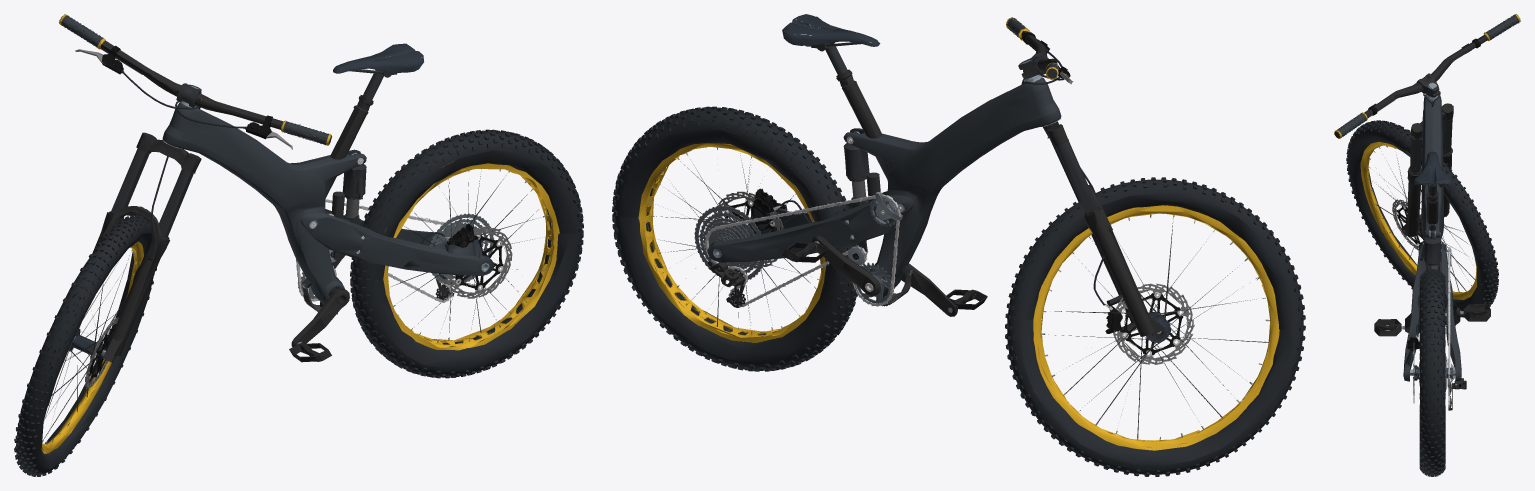
File: CarbonFrameBike_LOD1.fbx
3 renders of one model, left to right at view 1: azimuth 30°, elevation 25°; view 2: azimuth 150°, elevation 25°; view 3: azimuth 270°, elevation 25°, orthographic. The views are drawn at different scales.
Visible parts, largest first — view 1: MM_CarbonBike_overview_rear_wheel, MM_CarbonBike_overview_front_wheel, MM_CarbonBike_overview_frame, MM_CarbonBike_overview_rear_suspension, MM_CarbonBike_overview_fork, MM_CarbonBike_overview_cockpit, MM_CarbonBike_overview_seat, MM_CarbonBike_overview_transmission, MM_CarbonBike_overview_rear_brake, MM_CarbonBike_overview_shock, MM_CarbonBike_overview_chain_guide, MM_CarbonBike_overview_cables (+2 smaller); view 2: MM_CarbonBike_overview_front_wheel, MM_CarbonBike_overview_rear_wheel, MM_CarbonBike_overview_frame, MM_CarbonBike_overview_transmission, MM_CarbonBike_overview_rear_suspension, MM_CarbonBike_overview_fork, MM_CarbonBike_overview_seat, MM_CarbonBike_overview_chain_guide, MM_CarbonBike_overview_front_brake, MM_CarbonBike_overview_cockpit, MM_CarbonBike_overview_shock, MM_CarbonBike_overview_rear_brake (+1 smaller); view 3: MM_CarbonBike_overview_front_wheel, MM_CarbonBike_overview_rear_wheel, MM_CarbonBike_overview_fork, MM_CarbonBike_overview_cockpit, MM_CarbonBike_overview_rear_suspension, MM_CarbonBike_overview_frame, MM_CarbonBike_overview_seat, MM_CarbonBike_overview_pedals, MM_CarbonBike_overview_transmission, MM_CarbonBike_overview_shock, MM_CarbonBike_overview_front_brake, MM_CarbonBike_overview_chain_guide (+1 smaller).
Boxes of the visible parts, x1=… form: MM_CarbonBike_overview_rear_wheel: x1=350, y1=129, x2=583, y2=378; MM_CarbonBike_overview_front_wheel: x1=14, y1=214, x2=156, y2=476; MM_CarbonBike_overview_frame: x1=162, y1=102, x2=366, y2=314; MM_CarbonBike_overview_rear_suspension: x1=300, y1=160, x2=494, y2=275; MM_CarbonBike_overview_fork: x1=78, y1=85, x2=201, y2=362; MM_CarbonBike_overview_cockpit: x1=59, y1=14, x2=331, y2=149; MM_CarbonBike_overview_seat: x1=330, y1=43, x2=423, y2=159; MM_CarbonBike_overview_transmission: x1=291, y1=213, x2=493, y2=346; MM_CarbonBike_overview_rear_brake: x1=444, y1=223, x2=512, y2=298; MM_CarbonBike_overview_shock: x1=328, y1=152, x2=366, y2=224; MM_CarbonBike_overview_chain_guide: x1=296, y1=199, x2=455, y2=302; MM_CarbonBike_overview_cables: x1=120, y1=70, x2=445, y2=282; MM_CarbonBike_overview_front_wheel: x1=1005, y1=177, x2=1305, y2=476; MM_CarbonBike_overview_rear_wheel: x1=612, y1=106, x2=858, y2=371; MM_CarbonBike_overview_frame: x1=843, y1=77, x2=1061, y2=306; MM_CarbonBike_overview_transmission: x1=694, y1=205, x2=957, y2=316; MM_CarbonBike_overview_rear_suspension: x1=707, y1=138, x2=913, y2=264; MM_CarbonBike_overview_fork: x1=1021, y1=59, x2=1165, y2=338; MM_CarbonBike_overview_seat: x1=782, y1=14, x2=882, y2=138; MM_CarbonBike_overview_chain_guide: x1=704, y1=192, x2=902, y2=307; MM_CarbonBike_overview_front_brake: x1=1105, y1=283, x2=1194, y2=364; MM_CarbonBike_overview_cockpit: x1=1006, y1=17, x2=1073, y2=126; MM_CarbonBike_overview_shock: x1=843, y1=131, x2=880, y2=207; MM_CarbonBike_overview_rear_brake: x1=714, y1=188, x2=786, y2=268; MM_CarbonBike_overview_front_wheel: x1=1346, y1=120, x2=1498, y2=317; MM_CarbonBike_overview_rear_wheel: x1=1410, y1=269, x2=1455, y2=476; MM_CarbonBike_overview_fork: x1=1401, y1=82, x2=1453, y2=237; MM_CarbonBike_overview_cockpit: x1=1334, y1=14, x2=1520, y2=138; MM_CarbonBike_overview_rear_suspension: x1=1403, y1=233, x2=1461, y2=385; MM_CarbonBike_overview_frame: x1=1421, y1=94, x2=1444, y2=267; MM_CarbonBike_overview_seat: x1=1412, y1=151, x2=1452, y2=227; MM_CarbonBike_overview_pedals: x1=1374, y1=304, x2=1490, y2=336; MM_CarbonBike_overview_transmission: x1=1405, y1=307, x2=1466, y2=410; MM_CarbonBike_overview_shock: x1=1420, y1=230, x2=1441, y2=270; MM_CarbonBike_overview_front_brake: x1=1392, y1=199, x2=1423, y2=250; MM_CarbonBike_overview_chain_guide: x1=1446, y1=247, x2=1451, y2=410.
Size of the model in its own units: 1.8 by 1.16 by 0.6139.
